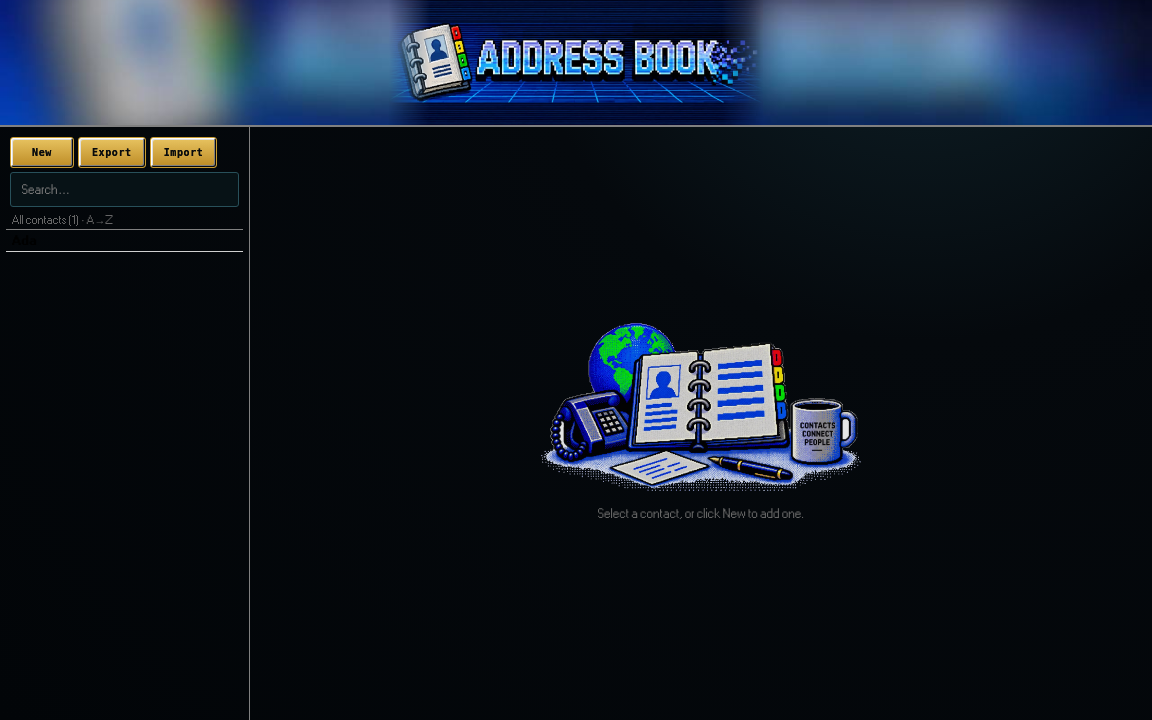
it: the repeatable fields are locked until Edit is pressed › Email/Phone/URL/Social/Affiliation start read-only with an Edit button
Click the list item "Ada" at (124, 241), box top-left (6, 230), bottom-right (243, 252)
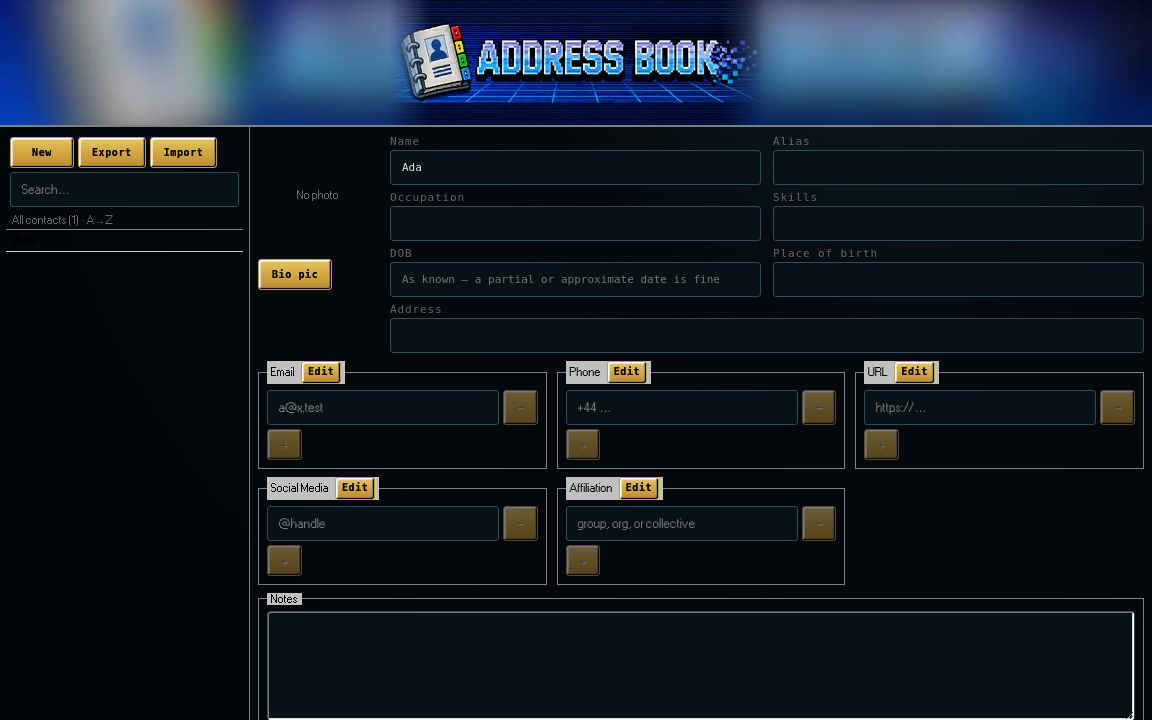
Check: the button "Edit" next to "Email" is shown, box top-left (301, 361), bottom-right (342, 384)
Check: the button "Edit" next to "Phone" is shown, box top-left (607, 361), bottom-right (647, 384)
Check: the button "Edit" next to "URL" is shown, box top-left (894, 361), bottom-right (935, 384)
